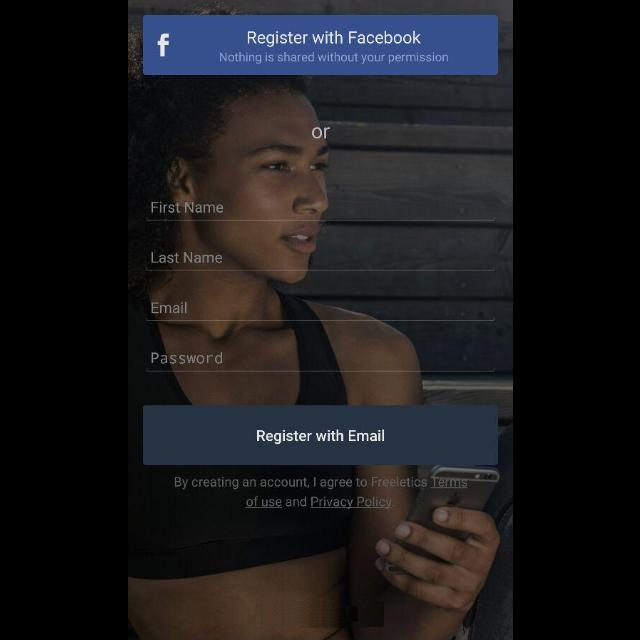backgroundimage: (128, 1, 512, 640)
input: (146, 352, 494, 372), (146, 302, 494, 322), (146, 252, 494, 272), (146, 202, 494, 220)
text: (175, 477, 468, 511), (151, 352, 223, 364), (151, 252, 223, 264), (151, 202, 223, 214), (152, 302, 186, 314), (311, 127, 329, 139)
textbutton: (142, 15, 498, 76), (142, 406, 498, 466)
